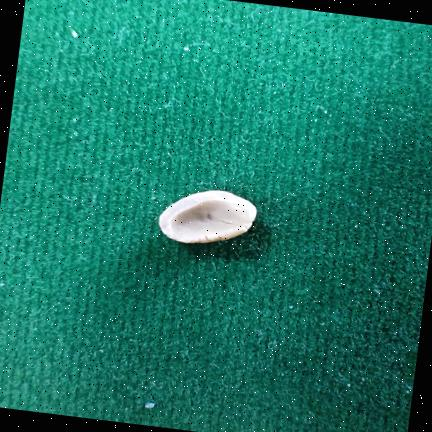shell: (159, 190, 257, 243)
